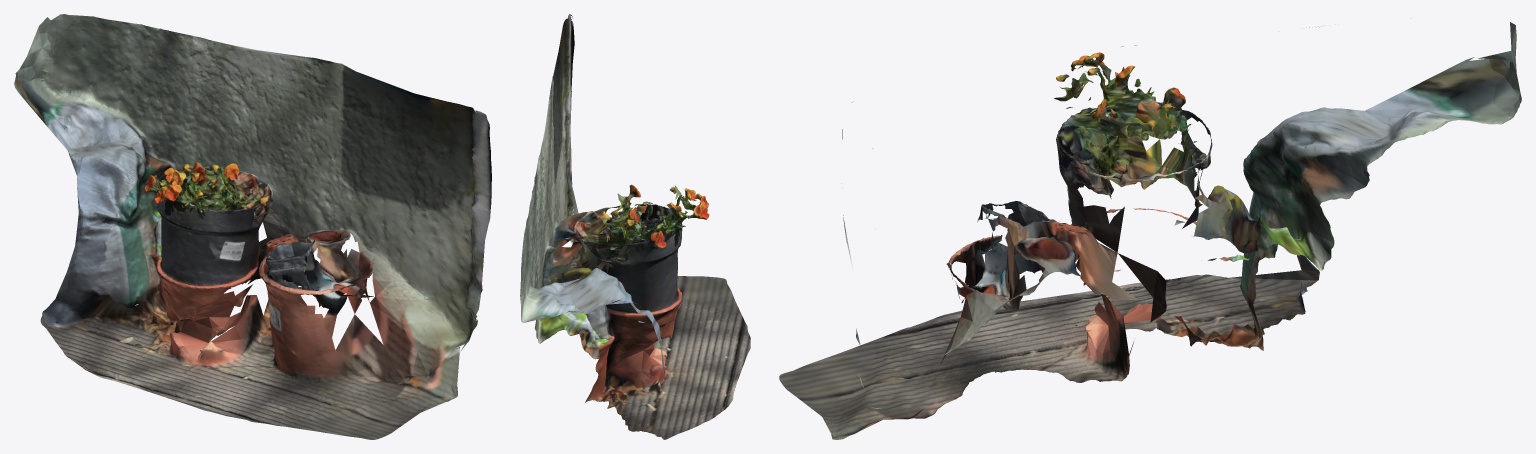
The model's file is FlowersMesh.glb.
3 renders of one model, left to right at view 1: azimuth 30°, elevation 25°; view 2: azimuth 150°, elevation 25°; view 3: azimuth 270°, elevation 25°, orthographic. The views are drawn at different scales.
Parts seen in each view (by area): view 1: mesh; view 2: mesh; view 3: mesh.
Boxes of the visible parts, <box> form: mesh: <box>14,14,491,439</box>; mesh: <box>520,14,750,439</box>; mesh: <box>779,22,1521,439</box>.
Size of the model in its own units: 0.7001 by 0.6481 by 1.15.
1 material, 1 textured.
